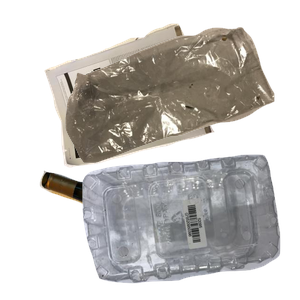glass: (37, 168, 242, 300)
paper: (42, 21, 249, 181)
plastic: (80, 152, 300, 300)
trash: (63, 24, 300, 179)
